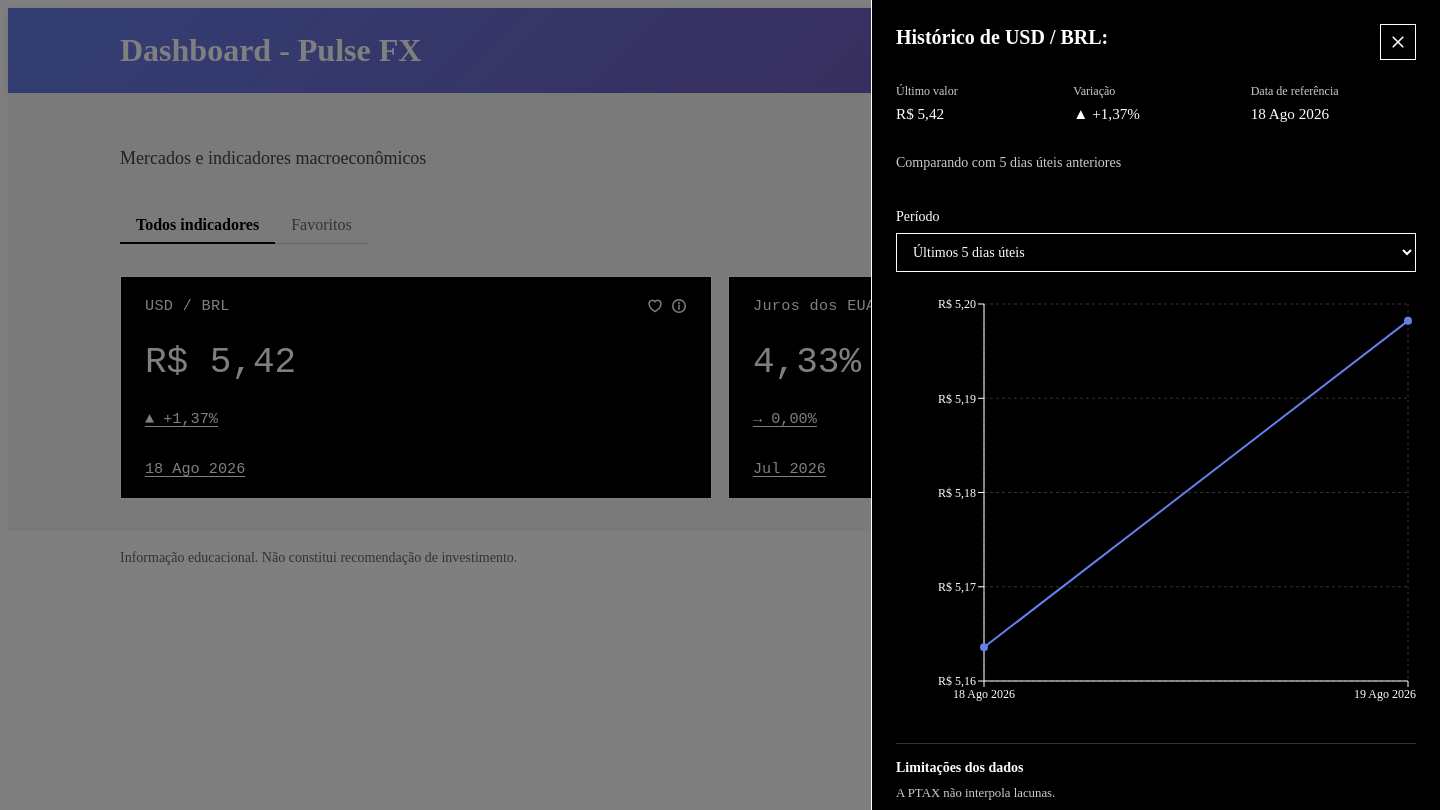
Test case: DashboardPage › should close history and remove the query params
The width and height of the screenshot is (1440, 810).
Expected: the heading "Histórico de USD / BRL:" is shown, [896,26,1108,48]
Click the button named "Fechar" at (1398, 42), box [1380,24,1416,60]
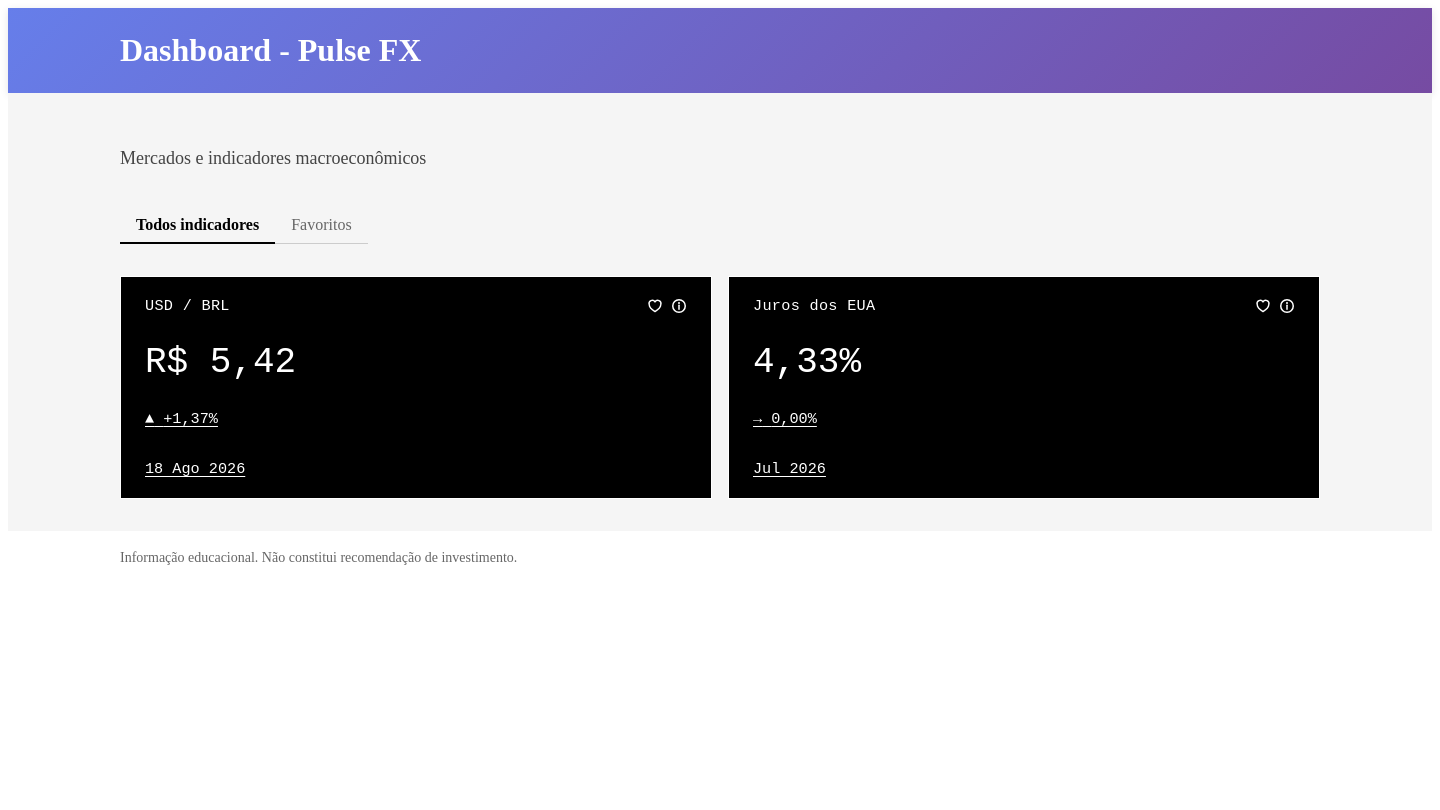
Now the heading "Histórico de USD / BRL:" is gone
